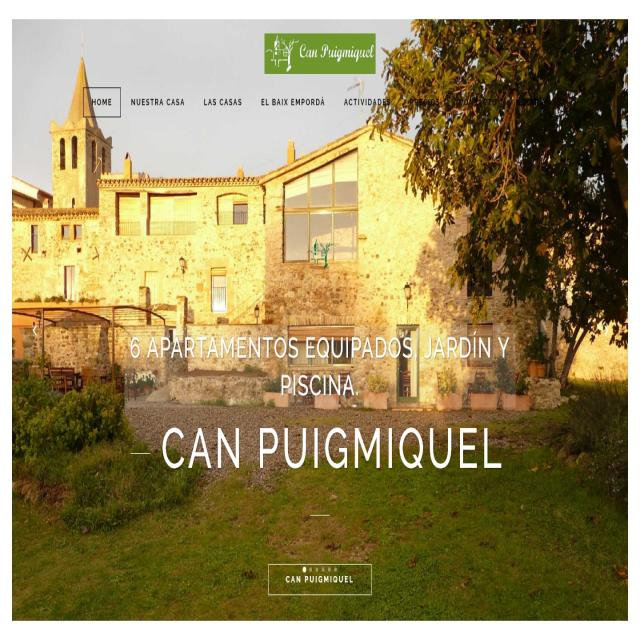button: (267, 564, 373, 595), (252, 84, 332, 118), (124, 85, 190, 120), (193, 86, 250, 120), (339, 83, 395, 116), (450, 84, 503, 115), (402, 82, 446, 116), (82, 85, 121, 117)
heading: (294, 36, 376, 67)
image: (12, 16, 628, 622), (265, 33, 375, 75)
text: (119, 321, 521, 481)
